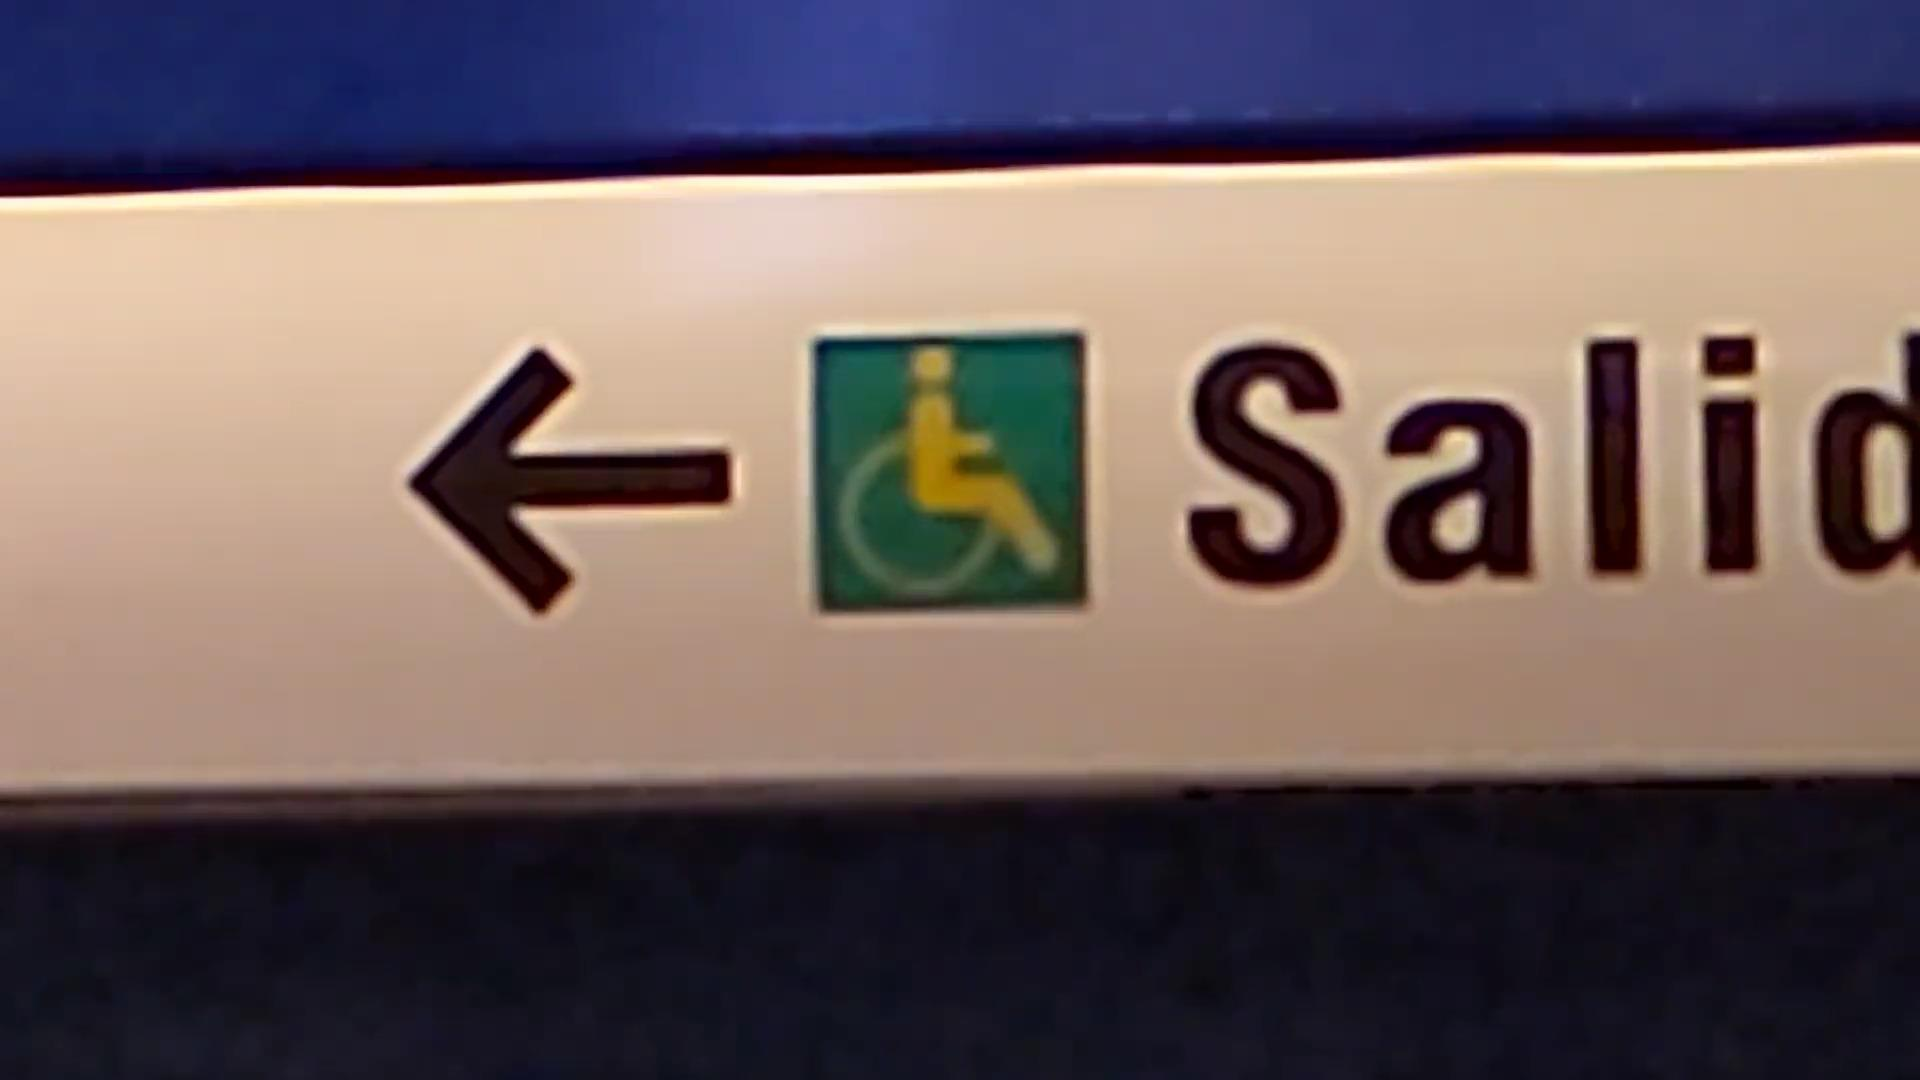handicapped symbol: (840, 343, 1064, 600)
left arrow: (389, 334, 749, 630)
